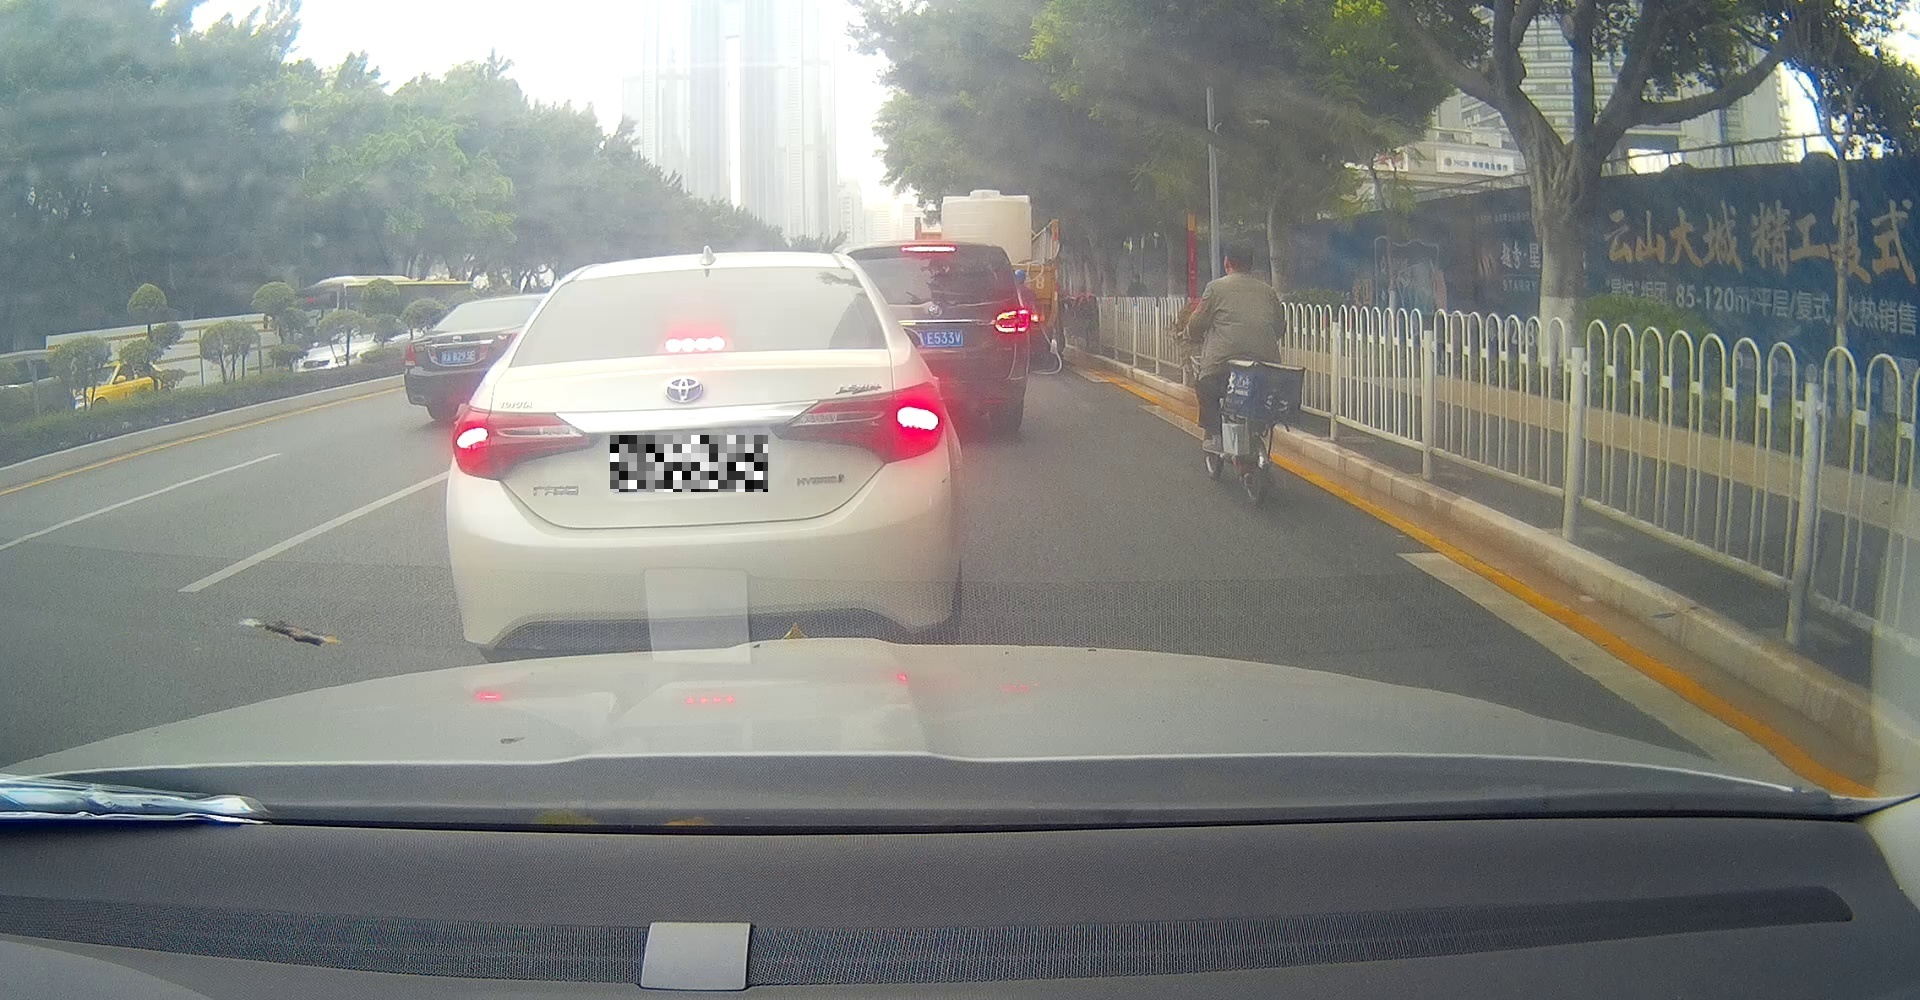L_light: (451, 404, 598, 481)
R_light: (770, 379, 943, 461)
T_light: (663, 334, 725, 352)
day-brake: (444, 253, 963, 659)
plate_1: (610, 435, 768, 492)
